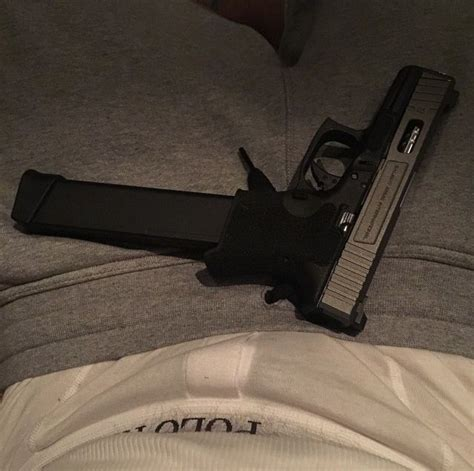gun: (10, 62, 459, 339)
